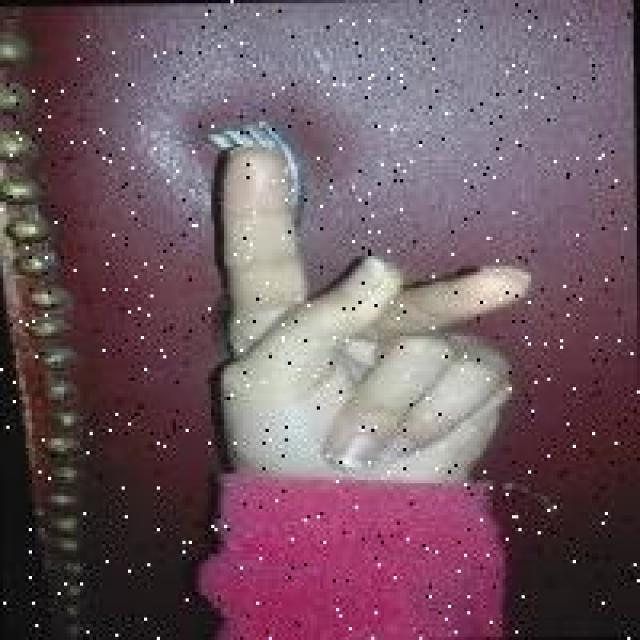K: (198, 134, 560, 461)
